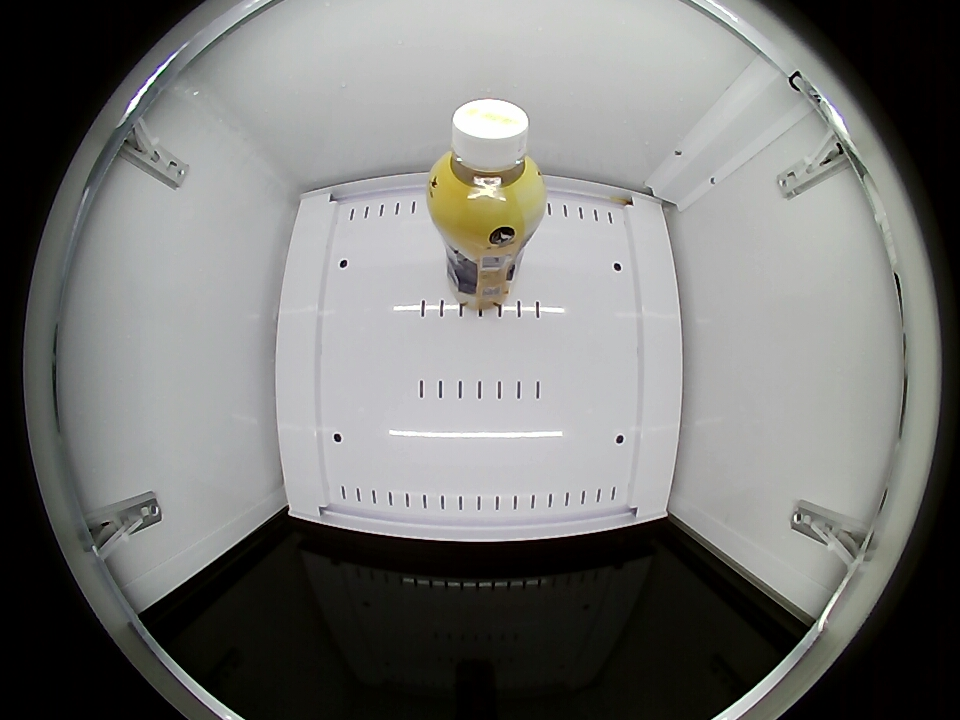asamu: (427, 98, 545, 232)
